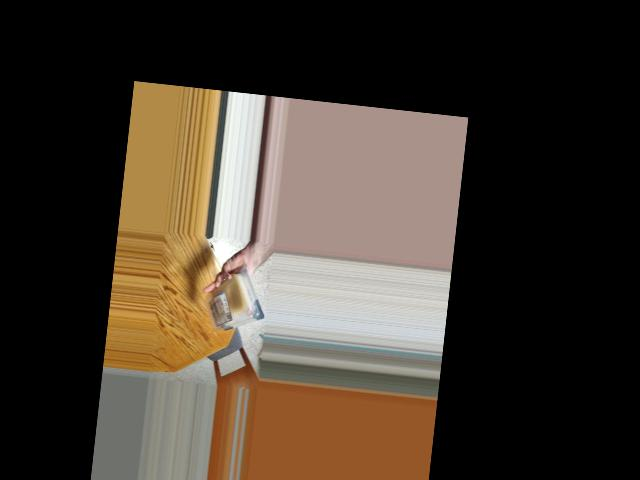cheese: (212, 264, 264, 335)
